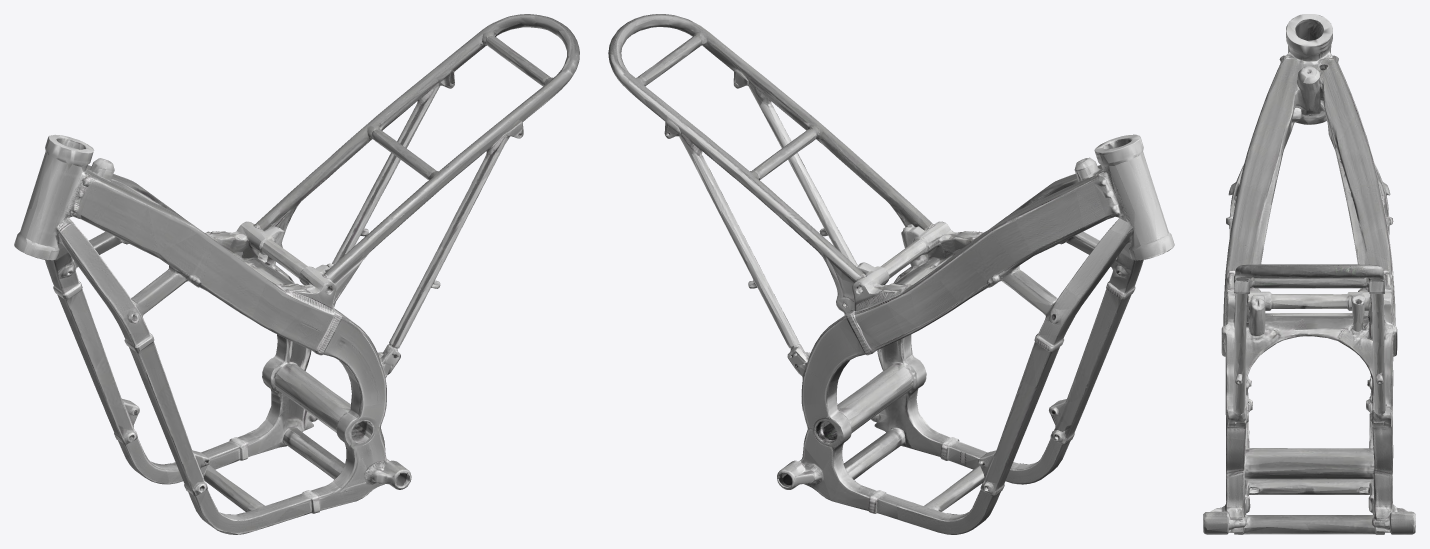
File: frame.glb
The picture shows the model from 3 angles, left to right: view 1: azimuth 30°, elevation 25°; view 2: azimuth 150°, elevation 25°; view 3: azimuth 270°, elevation 25°; orthographic projection.
Visible parts, largest first — view 1: Mesh_0; view 2: Mesh_0; view 3: Mesh_0.
Part boxes in pixels (bbox=[...]): Mesh_0: bbox=[14, 14, 579, 534]; Mesh_0: bbox=[608, 14, 1174, 534]; Mesh_0: bbox=[1203, 14, 1415, 534].
Size of the model in its own units: 1.9 by 1.33 by 0.6468.
1 material, 1 textured.
